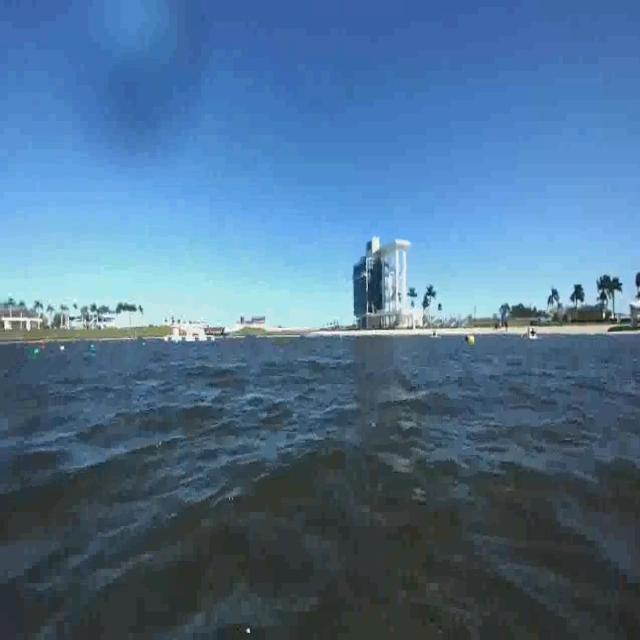yellow-buoy: (470, 335, 478, 349)
